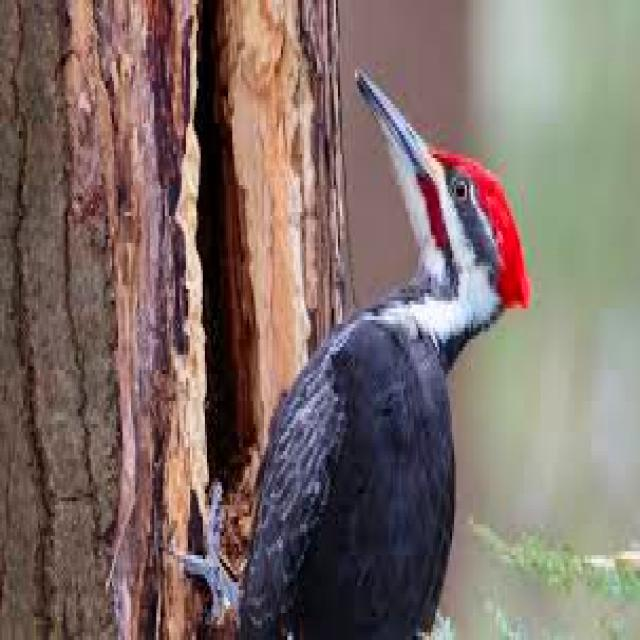woodpecker: (177, 69, 526, 636)
